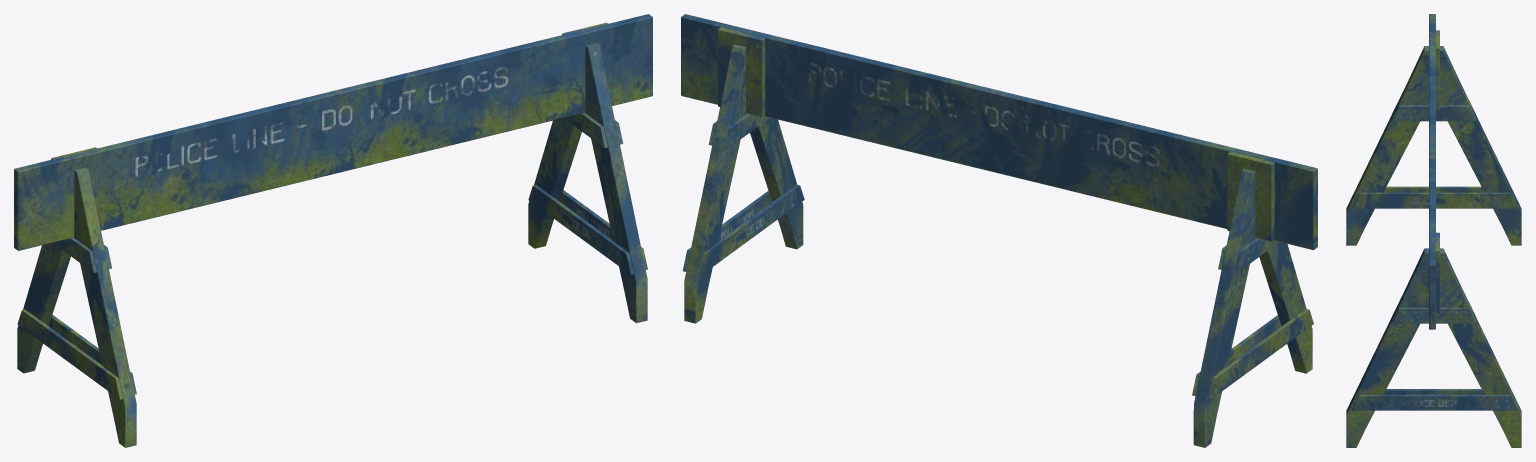
File: policeline.glb
3 views of the same model, side by side, from view 1: azimuth 30°, elevation 25°; view 2: azimuth 150°, elevation 25°; view 3: azimuth 270°, elevation 25° (orthographic). The views are drawn at different scales.
Visible parts, largest first — view 1: Police_Crowd_Barrier_1; view 2: Police_Crowd_Barrier_1; view 3: Police_Crowd_Barrier_1.
Part boxes in pixels (x1,y1,x2,y2): Police_Crowd_Barrier_1: [14, 14, 652, 447]; Police_Crowd_Barrier_1: [681, 14, 1317, 447]; Police_Crowd_Barrier_1: [1346, 14, 1521, 447].
Bounding box in the file's own units: 2.5 × 0.95 × 0.7353.
1 material, 1 textured.
